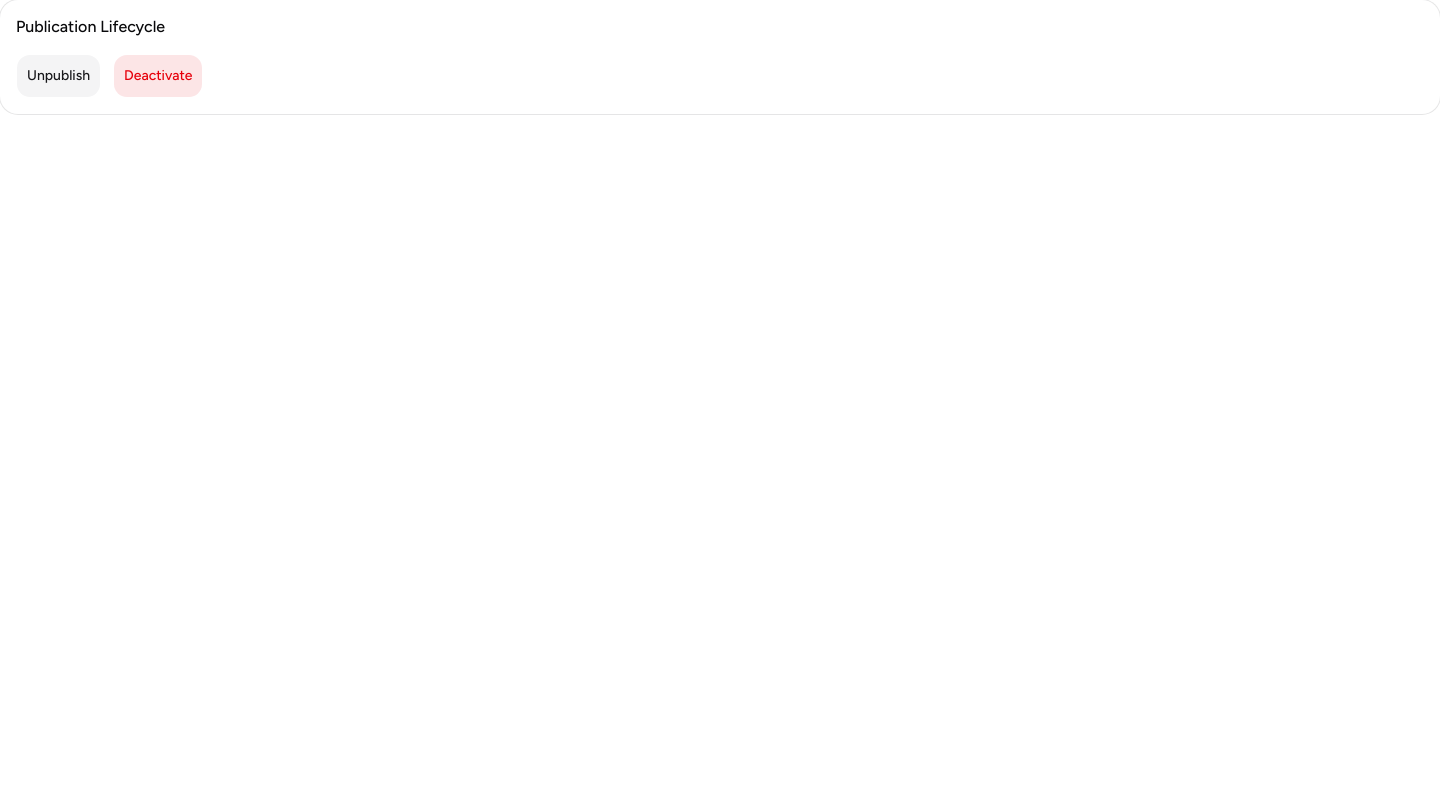
Test: ContentLifecycleActions › confirms before withdrawing and sends the current version number
The image size is (1440, 810).
Later steps or results of the test are not shown.
Click the button "Unpublish". click: (59,76)
box: [16, 54, 101, 98]
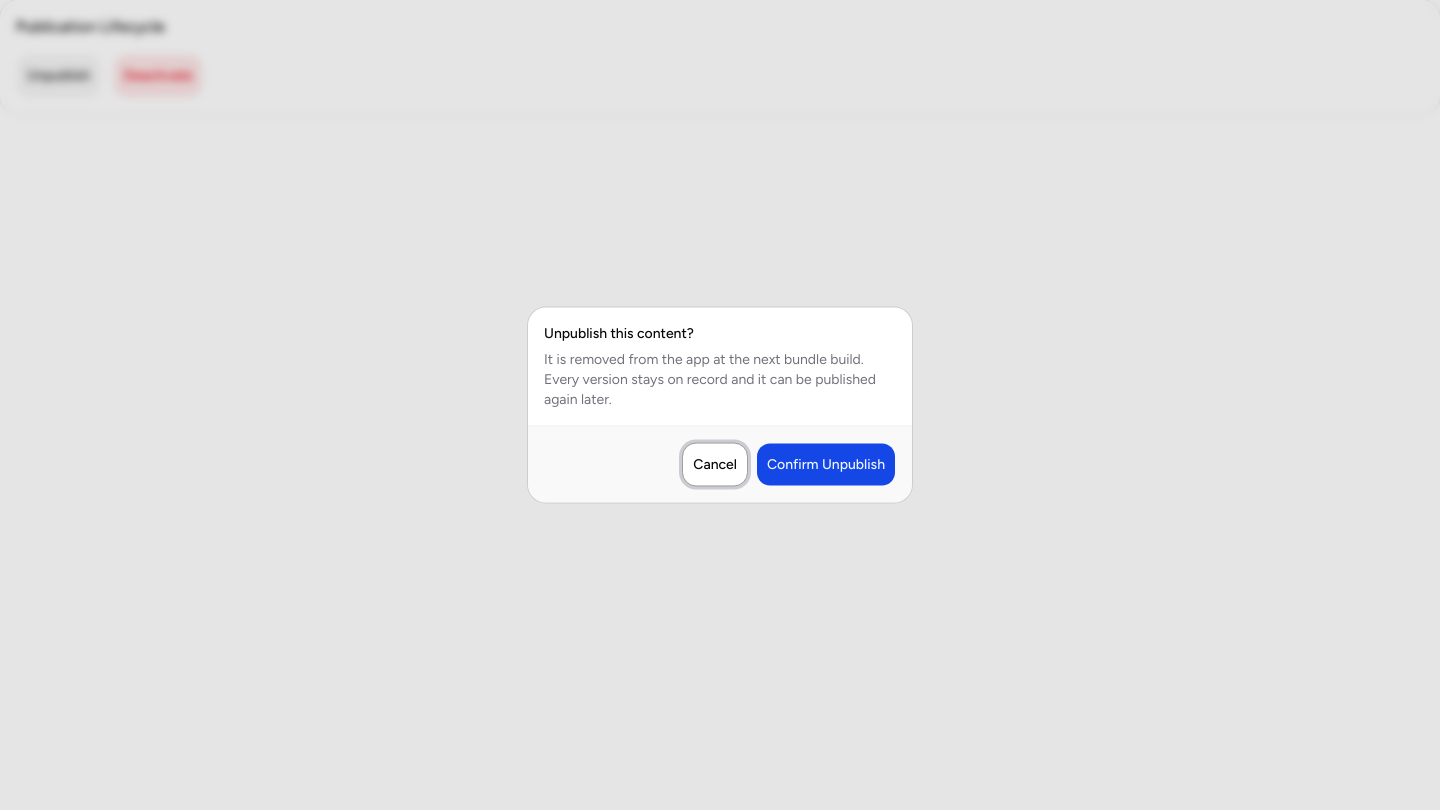
expect the heading "Unpublish this content?" is shown: met, box [544, 324, 694, 344]
expect the text "removed from the app at the next bundle build" is shown: met, box [544, 350, 876, 408]
